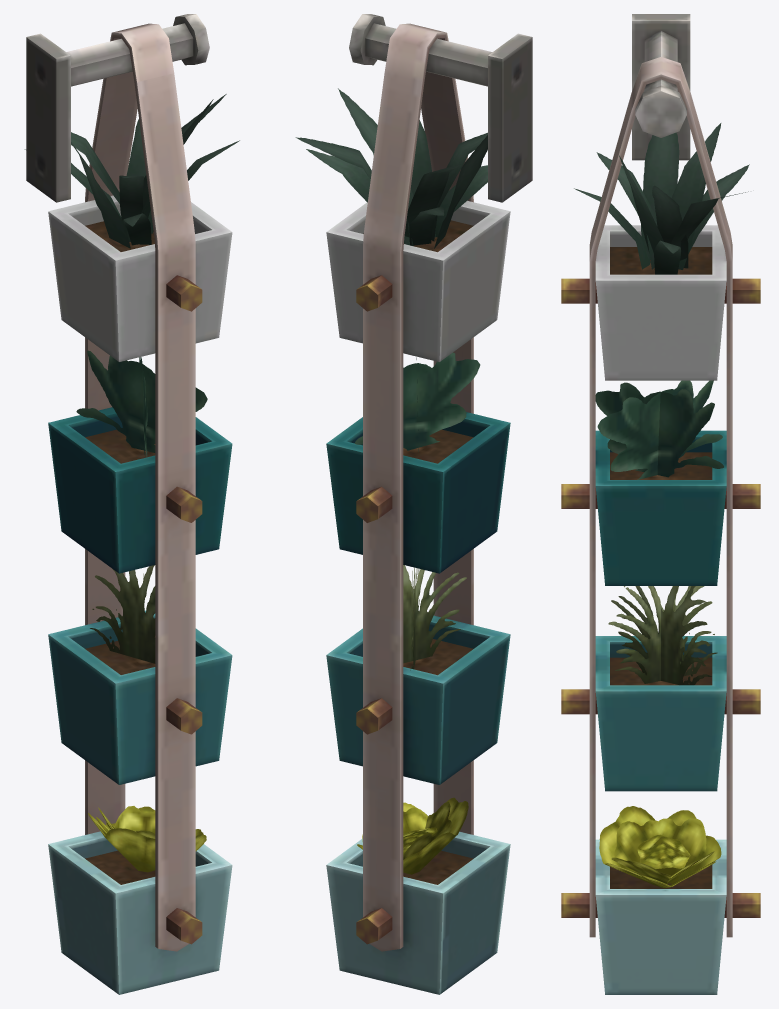
The model's file is VerticalMiniGarden.fbx.
3 renders of one model, left to right at view 1: azimuth 30°, elevation 25°; view 2: azimuth 150°, elevation 25°; view 3: azimuth 270°, elevation 25°, orthographic. The views are drawn at different scales.
Visible parts, largest first — view 1: TinyLiving_VerticalMiniGarden; view 2: TinyLiving_VerticalMiniGarden; view 3: TinyLiving_VerticalMiniGarden.
Boxes of the visible parts, x1,y1,x2,y2 form: TinyLiving_VerticalMiniGarden: (24, 14, 239, 994); TinyLiving_VerticalMiniGarden: (295, 14, 532, 994); TinyLiving_VerticalMiniGarden: (561, 14, 760, 994).
Bounding box in the file's own units: 20.41 × 84.25 × 17.03.
